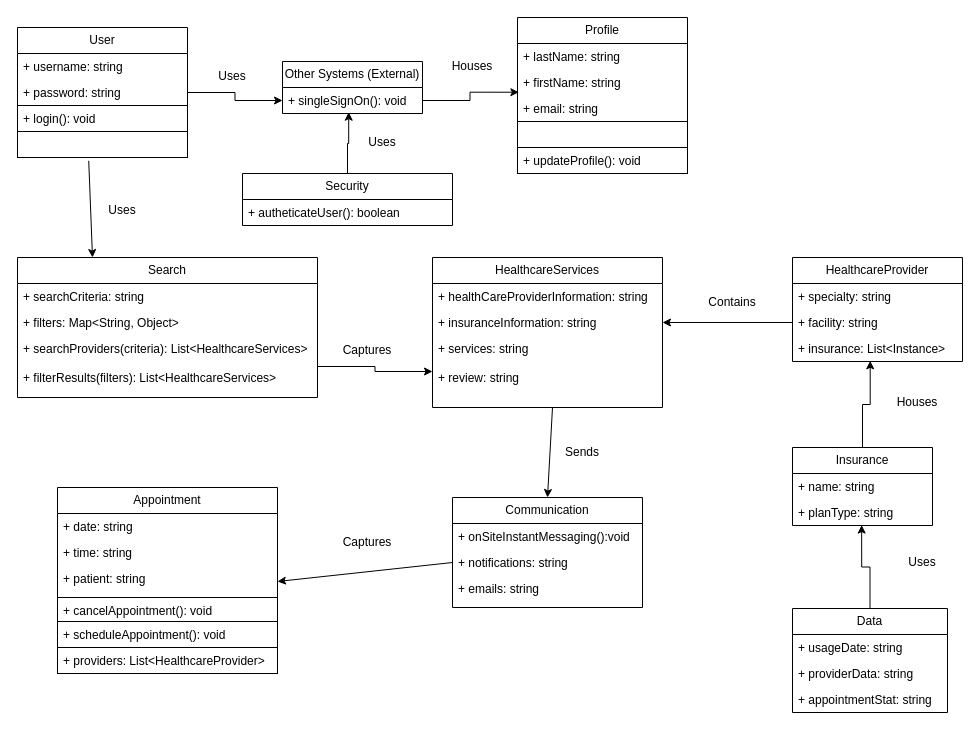
This 980x733 diagram has some shape labels left out. The centre of each missing label's shape, as x and y in pixels:
"+ getReviews(): List<Review>" belongs at point (602, 134).
"+ logout(): void" belongs at point (102, 144).
